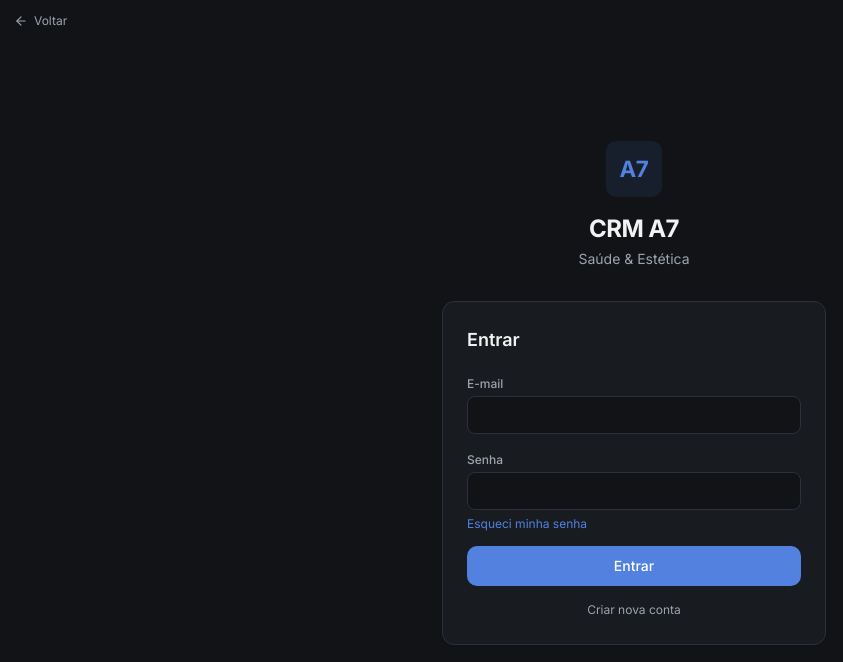
Test: tela de login › 'Esqueci minha senha' pede o e-mail e envia o link para /redefinir-senha
The image size is (843, 662).
Click the button "Esqueci minha senha" at (527,524), box [467,516,587,532]
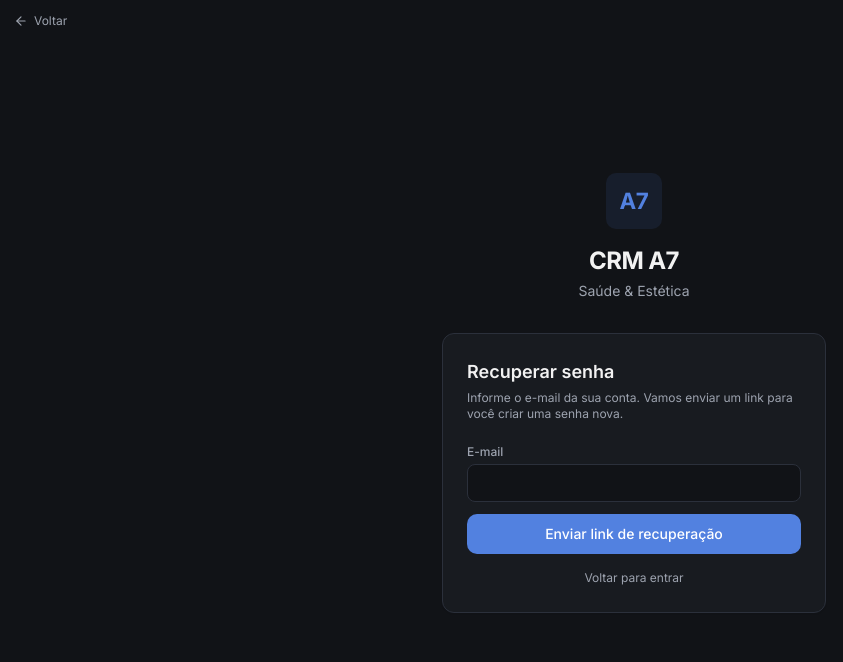
Type "dono@x.com" into the field labelled "E-mail" at (634,483), box [467,464,801,502]
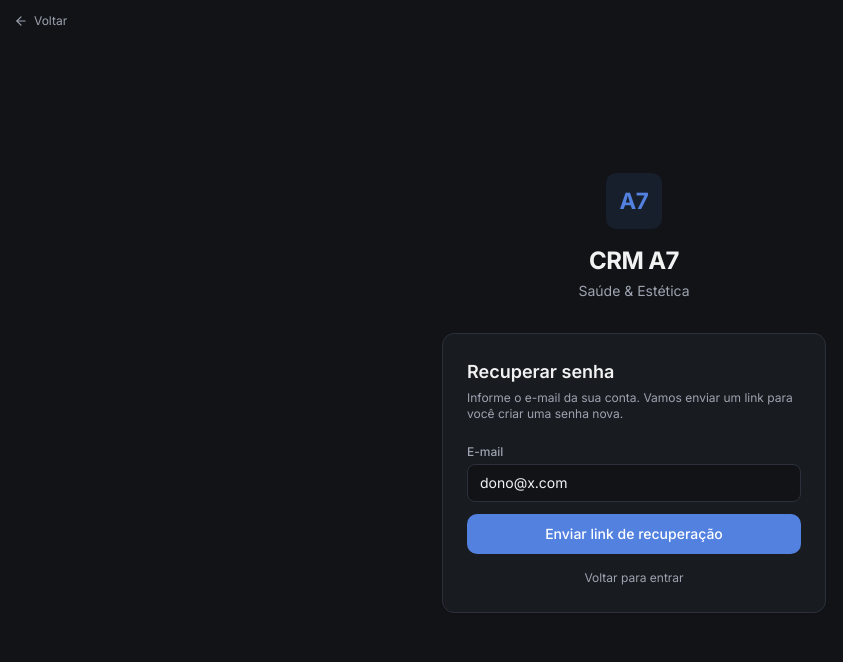
Click the button "Enviar link de recuperação" at (634,534), box [467,514,801,554]
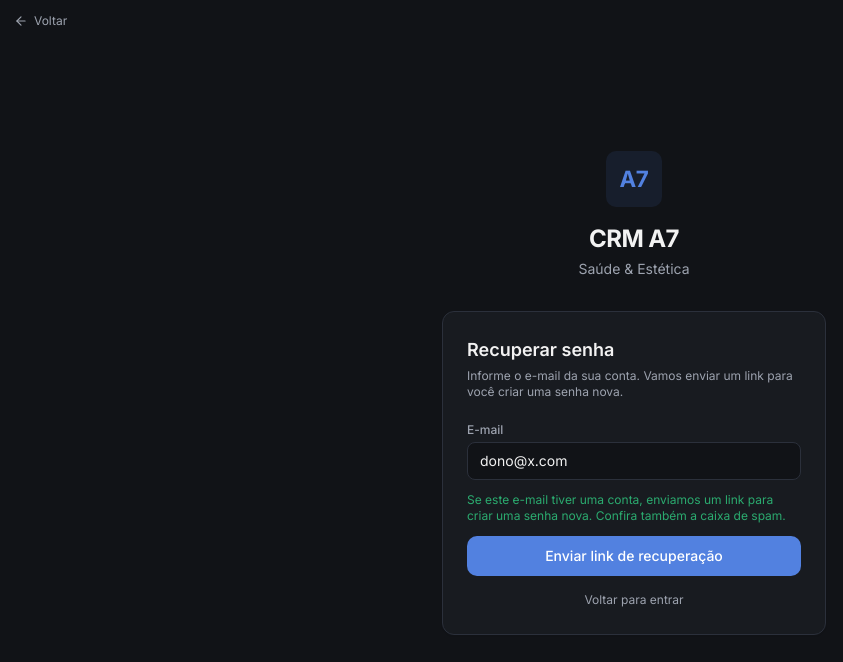
Check: the message is shown, box [467,492,801,524]
